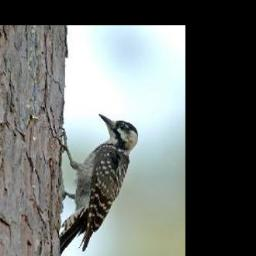Woodpecker: (51, 113, 141, 256)
